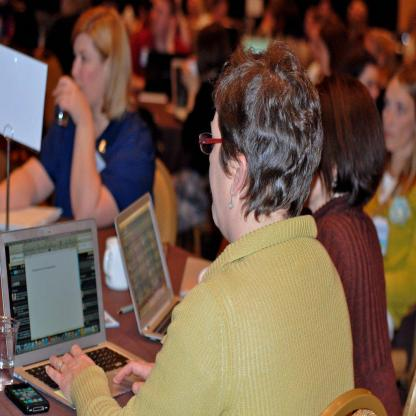board: (3, 214, 107, 398), (113, 192, 183, 339)
